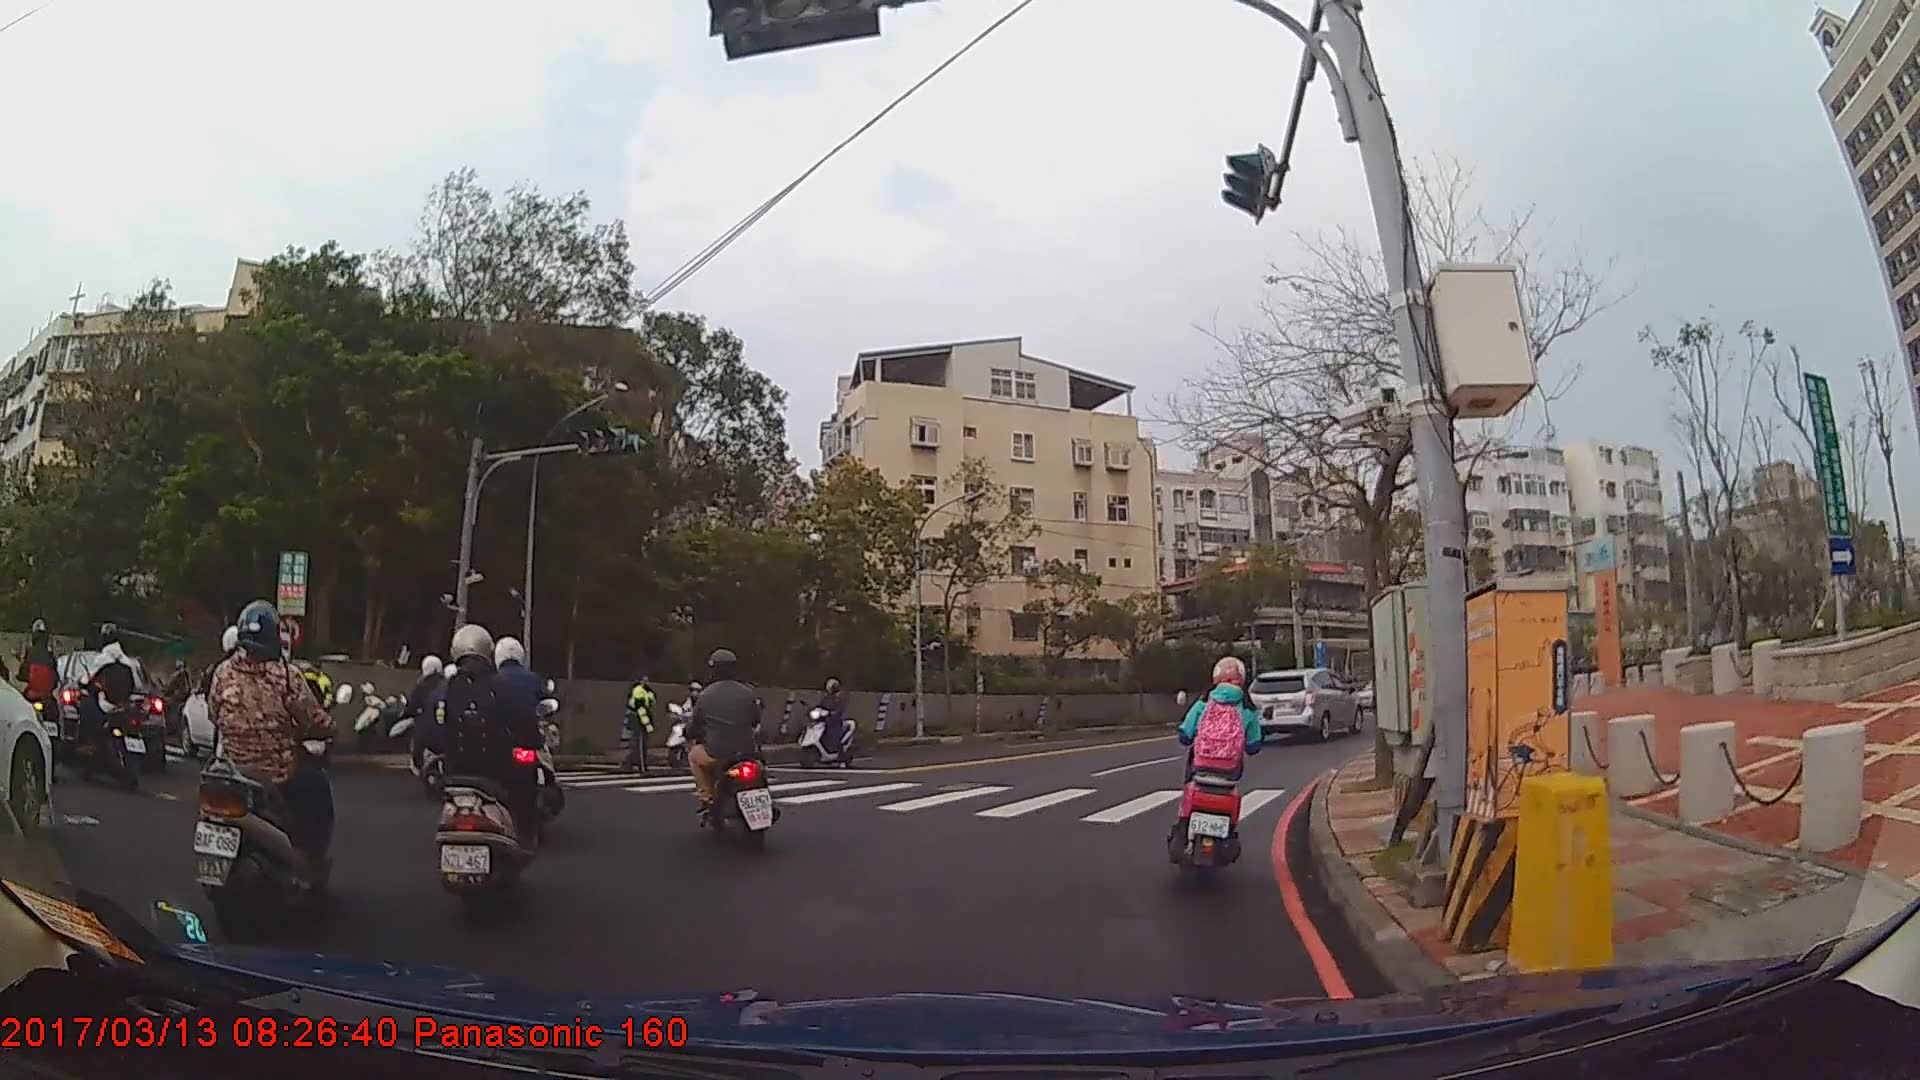pedestrian: (618, 671, 659, 777)
rider: (191, 601, 341, 931), (423, 621, 543, 909), (1175, 654, 1269, 874), (682, 648, 779, 852), (480, 633, 565, 832), (389, 655, 467, 802), (76, 621, 139, 783), (8, 620, 60, 775), (798, 678, 857, 768)
vehicle: (52, 648, 164, 766), (1238, 665, 1362, 745)
